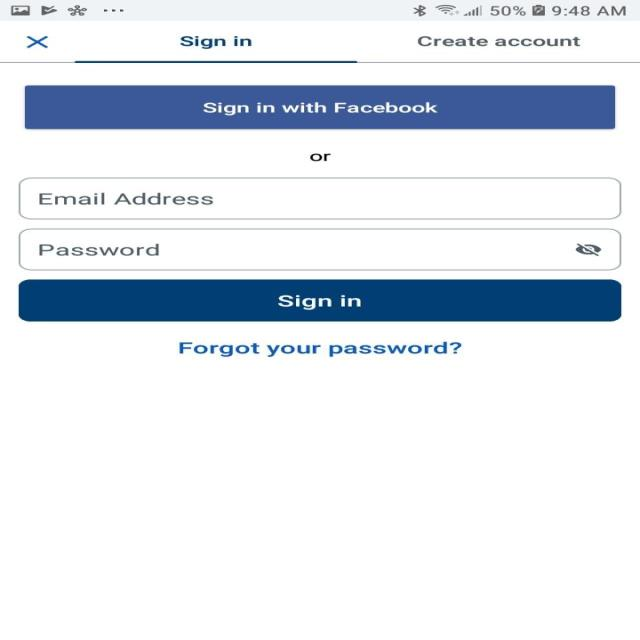EditText: (18, 178, 620, 220), (18, 228, 620, 270)
Icon: (574, 242, 602, 256), (26, 36, 49, 49)
Text: (178, 341, 462, 357), (39, 193, 213, 205), (416, 36, 580, 46), (39, 243, 159, 256), (180, 36, 252, 50), (309, 152, 331, 162)
TextButton: (24, 85, 614, 129), (19, 279, 622, 322)
